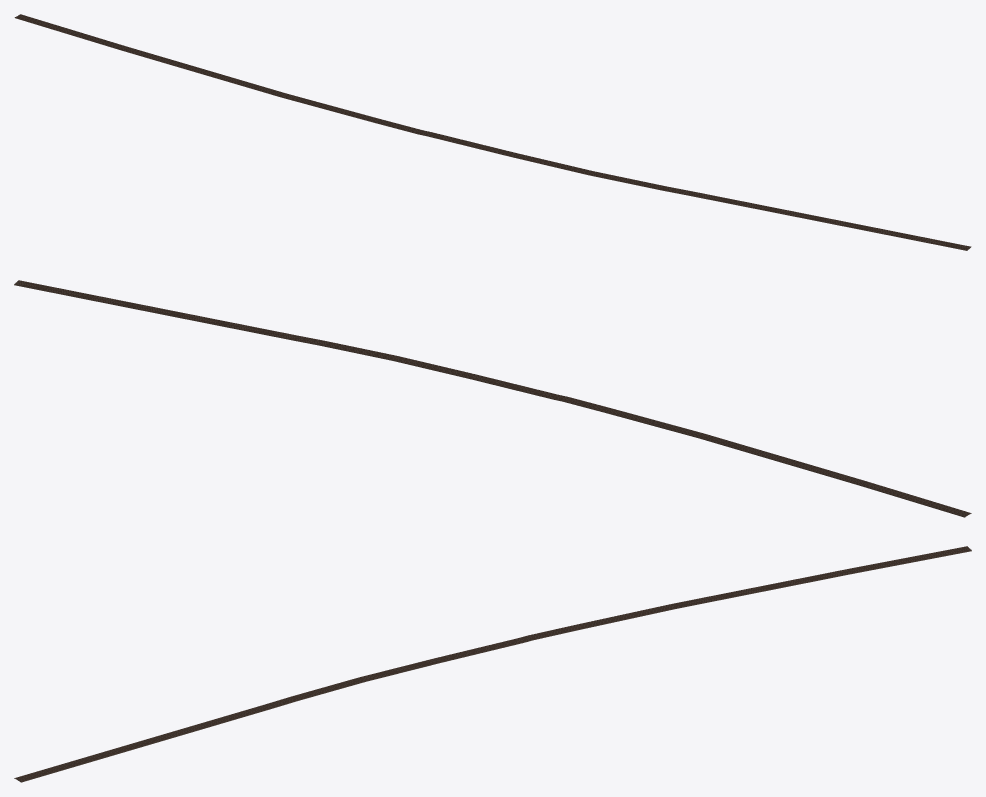
Rendered from kobe_0003.glb.
3 renders of one model, top to bottom at view 1: azimuth 30°, elevation 25°; view 2: azimuth 210°, elevation 25°; view 3: azimuth 270°, elevation 25°, orthographic.
Parts seen in each view (by area): view 1: ballast_top, oxidised_rail_profiles; view 2: ballast_top, oxidised_rail_profiles, ballast_left; view 3: ballast_top, oxidised_rail_profiles, ballast_left.
Part boxes in pixels (x1,y1,x2,y2): ballast_top: [14, 14, 971, 250]; oxidised_rail_profiles: [15, 14, 970, 249]; ballast_top: [14, 280, 971, 516]; oxidised_rail_profiles: [15, 280, 970, 515]; ballast_left: [14, 284, 965, 517]; ballast_top: [14, 546, 971, 781]; oxidised_rail_profiles: [15, 546, 970, 780]; ballast_left: [20, 550, 971, 782].
Bounding box in the file's own units: 383 × 0.819 × 656.
4 materials, 3 textured.
